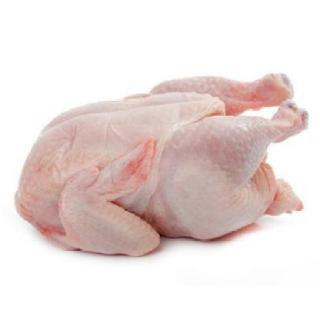Ayam: (16, 76, 309, 256)
